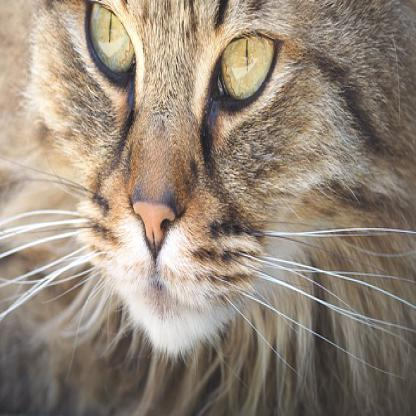cat: (27, 0, 394, 366)
